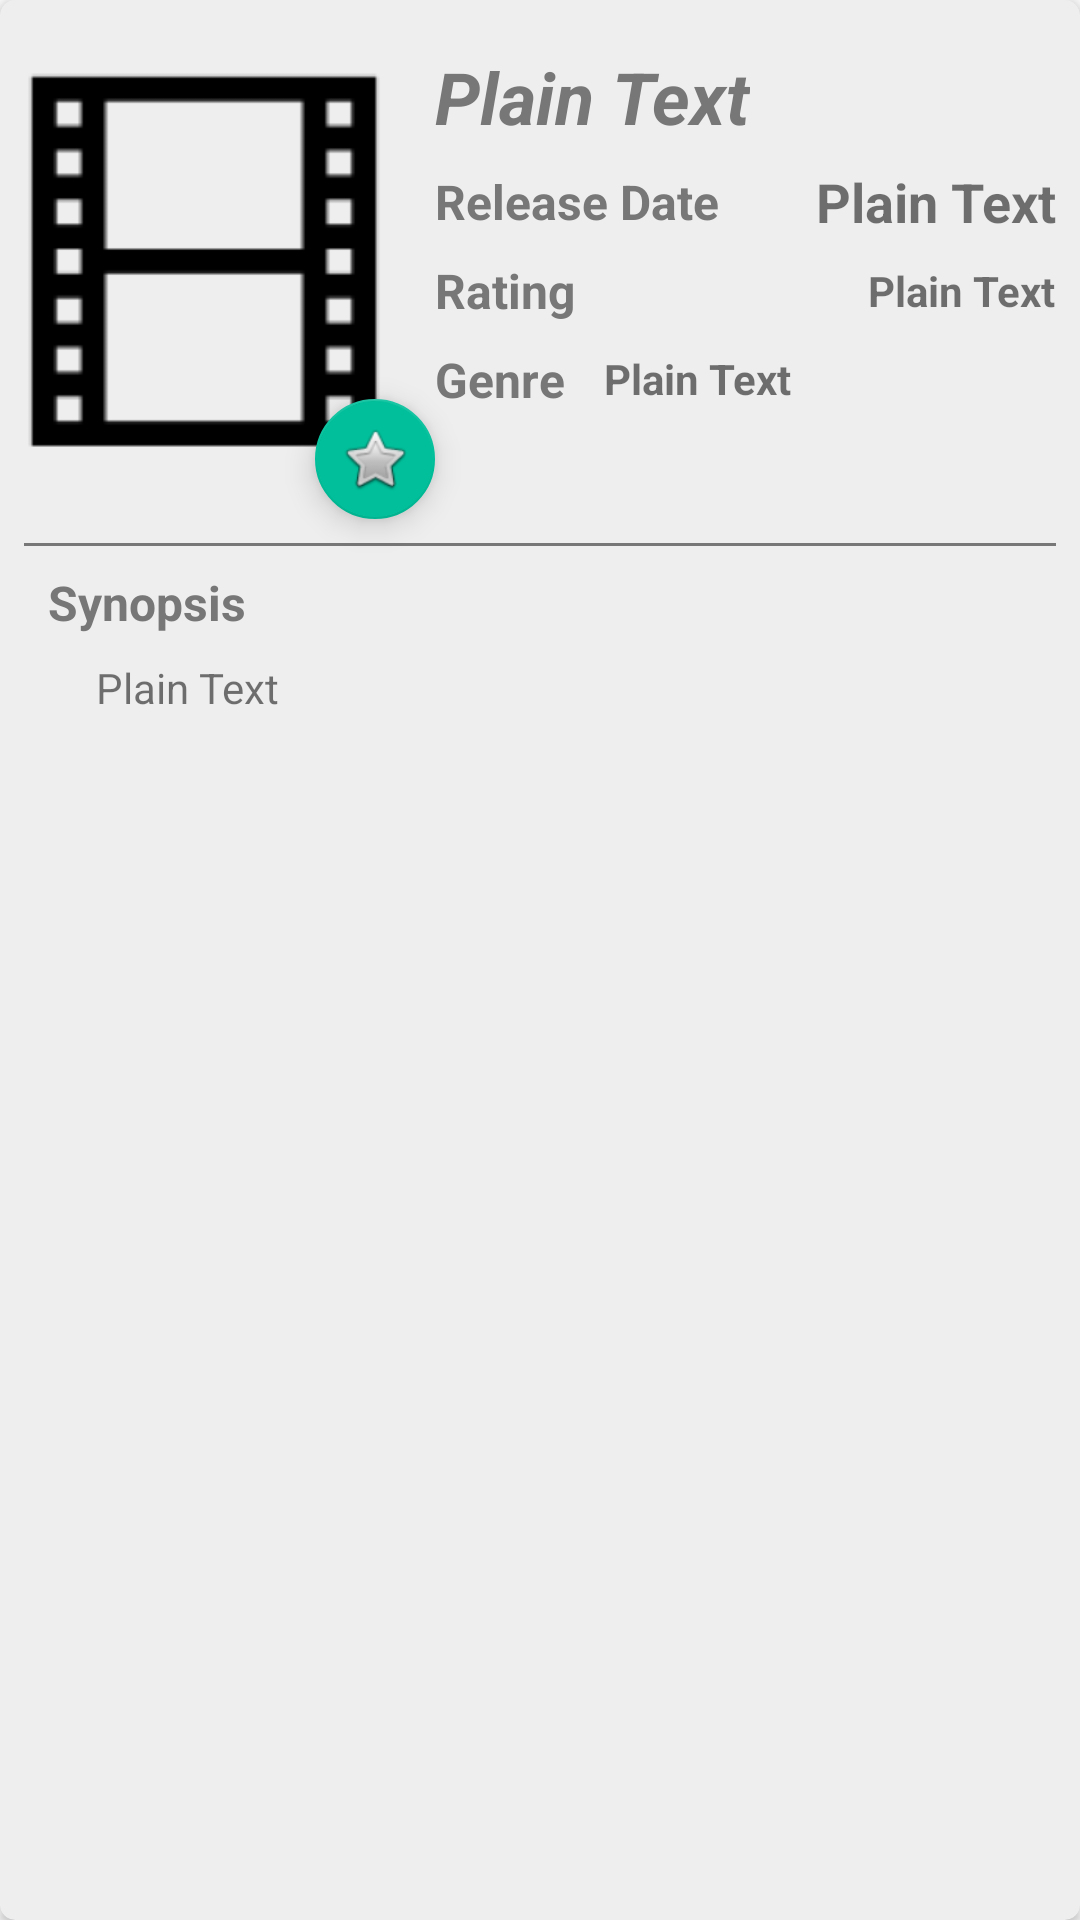

Named icons in this screenshot (1080×1920) and their bounding boxes, (x1, y1, x2, y2):
star: (315, 399, 435, 519)
